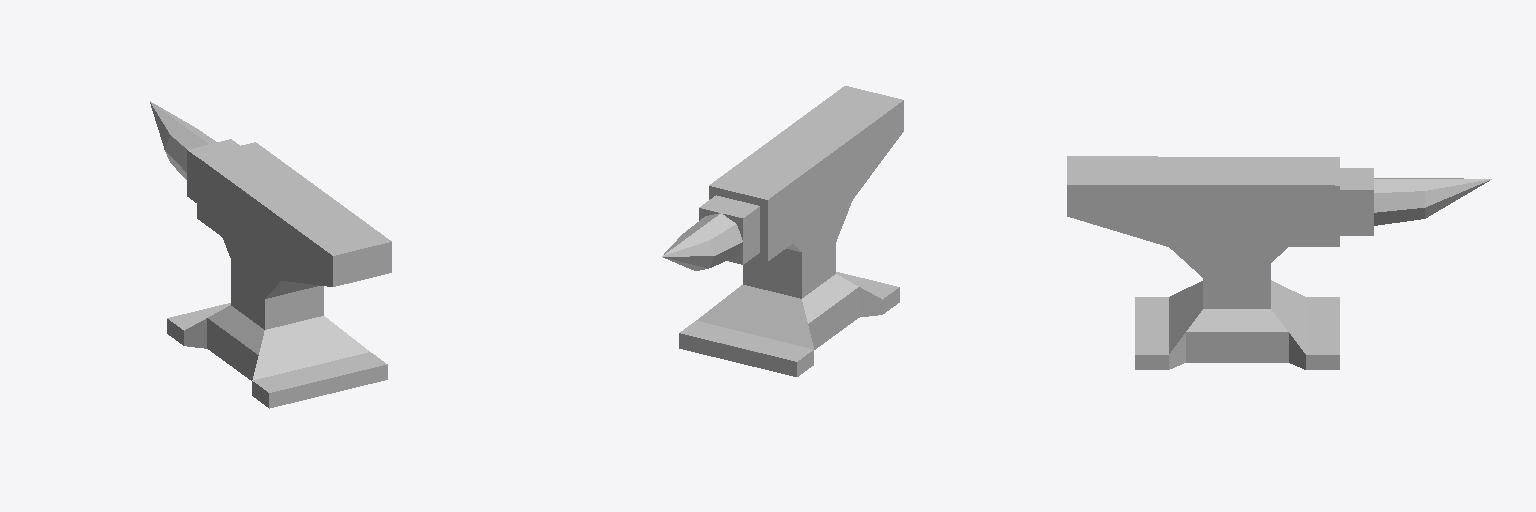
File: anvil_block.obj
The picture shows the model from 3 angles: view 1: azimuth 30°, elevation 25°; view 2: azimuth 150°, elevation 25°; view 3: azimuth 270°, elevation 25°; orthographic projection.
Parts seen in each view (by area): view 1: Left, Top, Back; view 2: Left, Top, Front; view 3: Right, Top, Front, Back.
Boxes of the visible parts, box(x1,y1,x2,y2) form: Left: box(150, 103, 332, 407); Top: box(150, 101, 391, 392); Back: box(252, 242, 391, 408); Left: box(662, 100, 903, 376); Top: box(663, 86, 902, 361); Front: box(679, 186, 813, 376); Right: box(1067, 179, 1491, 369); Top: box(1067, 156, 1488, 354); Front: box(1271, 280, 1305, 353); Back: box(1169, 281, 1202, 353).
Bounding box in the file's own units: 0.5 × 0.6885 × 1.56.